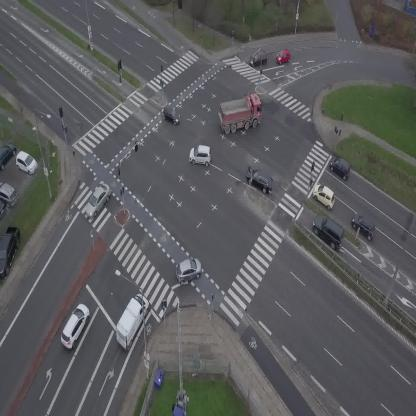car: (55, 301, 95, 351), (306, 211, 349, 251), (79, 181, 116, 220), (347, 209, 382, 242), (171, 254, 206, 286), (242, 165, 278, 195), (308, 180, 340, 212), (326, 154, 355, 181), (188, 143, 213, 167), (159, 104, 183, 128), (248, 50, 269, 67), (273, 47, 292, 65)
lorry: (108, 290, 154, 352), (215, 91, 266, 135)
